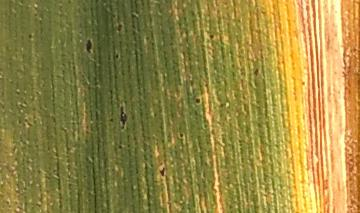tarspot: (117, 105, 129, 131), (84, 37, 94, 55), (157, 165, 168, 178), (114, 22, 125, 33), (251, 66, 260, 77), (26, 32, 35, 41), (115, 142, 124, 151), (207, 32, 216, 41), (194, 95, 202, 105), (192, 108, 200, 118), (107, 116, 116, 124), (217, 102, 225, 110), (178, 131, 185, 140), (114, 52, 121, 60), (144, 35, 150, 42)
